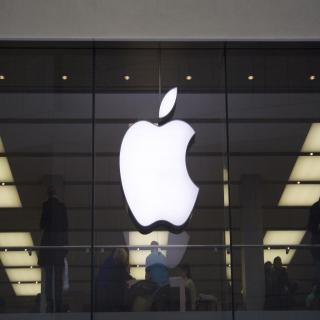Apple: (113, 111, 200, 238)
